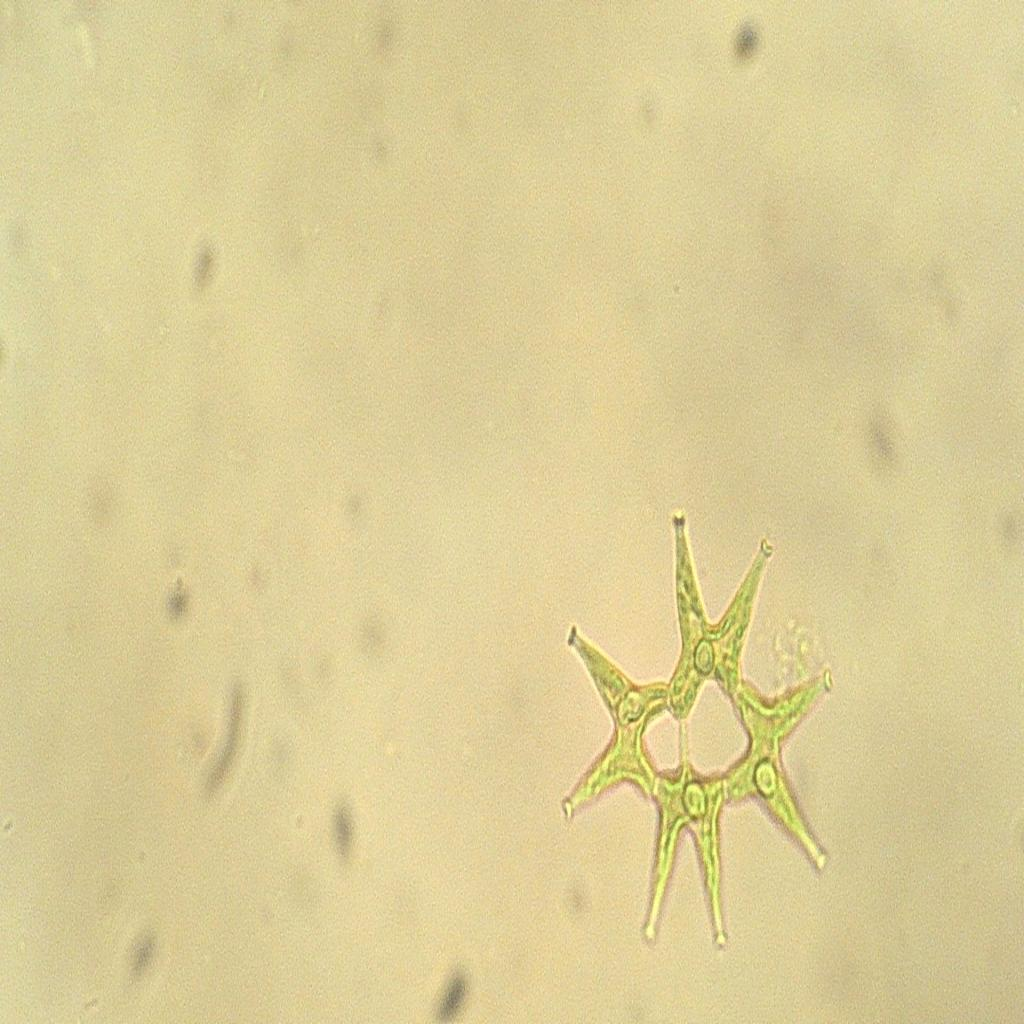Pediastrum_75FO: (550, 483, 840, 969)
